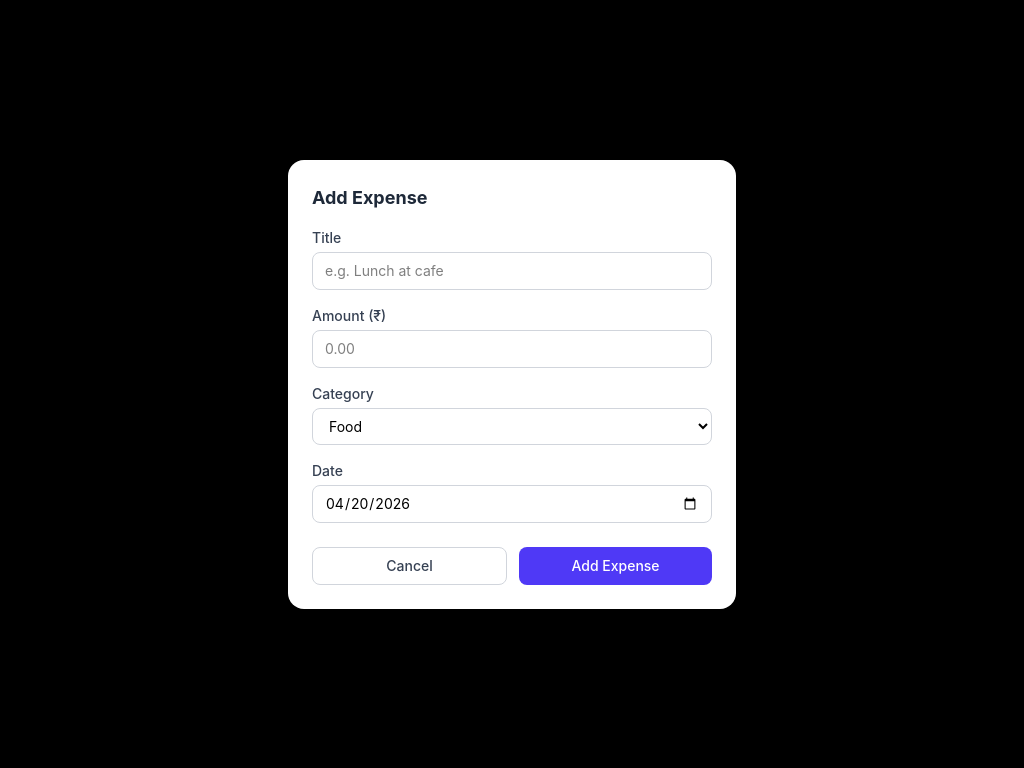
Scenario: ExpenseForm › shows error when title is empty
What coordinates should you click on to do the following:
click the button "Add Expense"
I would click on:
 (616, 566)
Its box is [519,546,712,584].
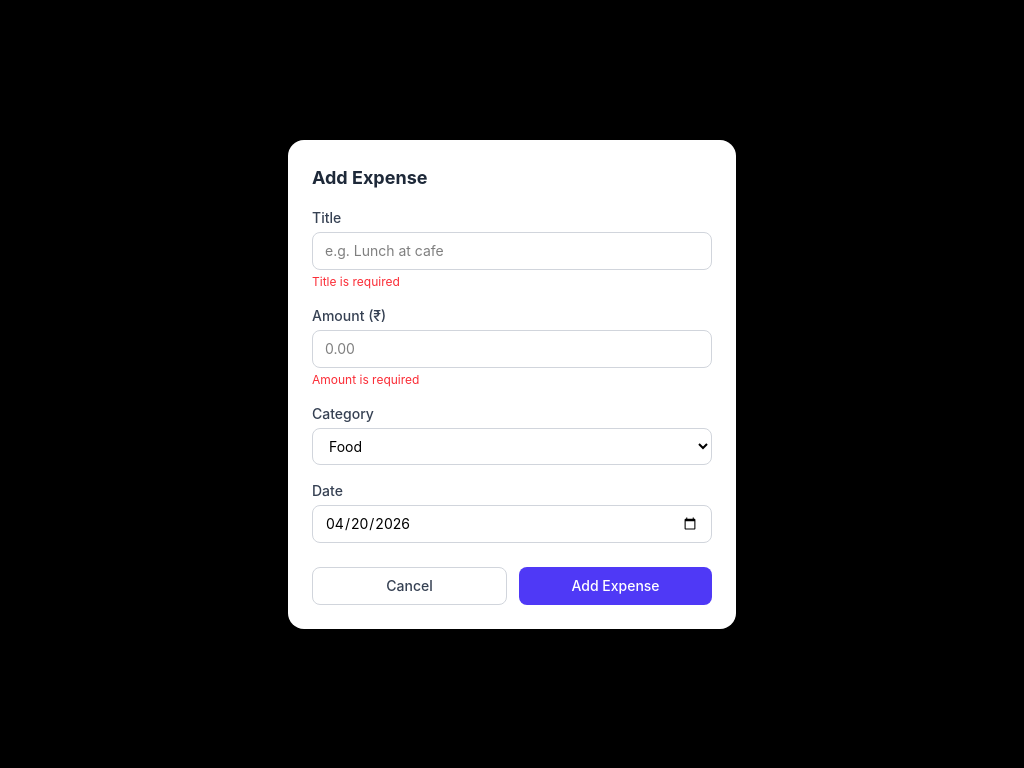
Expected: the text "Title is required" is shown, [312,274,400,288]
